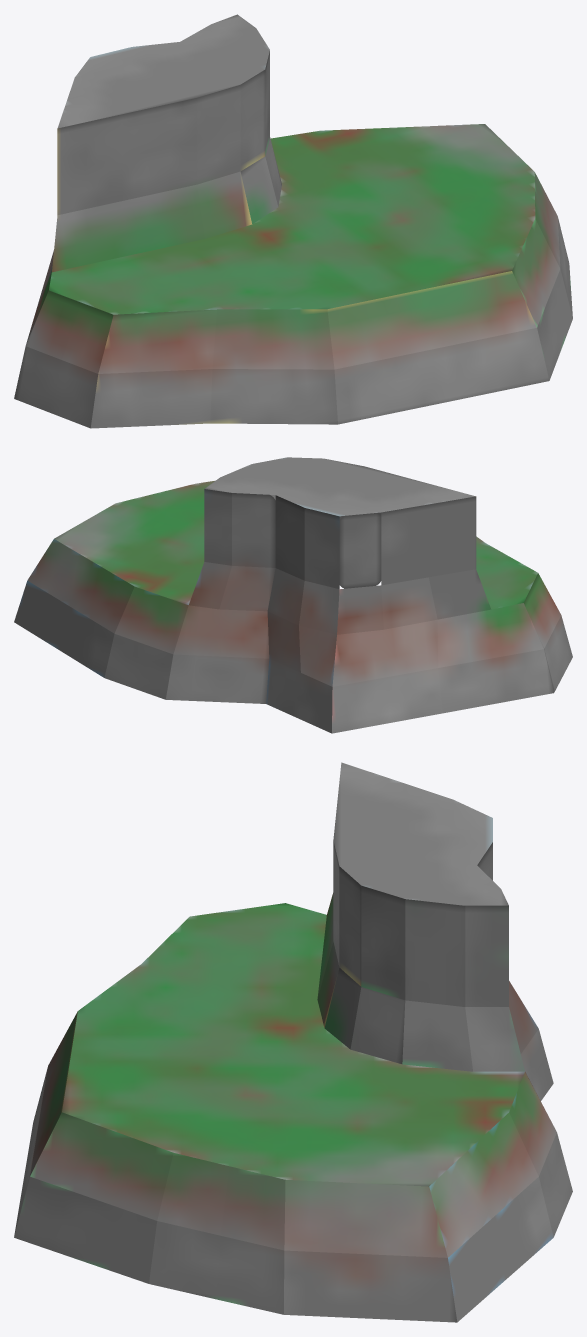
File: ilha.fbx
3 renders of one model, top to bottom at view 1: azimuth 30°, elevation 25°; view 2: azimuth 150°, elevation 25°; view 3: azimuth 270°, elevation 25°, orthographic. The views are drawn at different scales.
Visible parts, largest first — view 1: plane; view 2: plane; view 3: plane.
Part boxes in pixels (x1=…): plane: x1=14, y1=14, x2=572, y2=428; plane: x1=14, y1=457, x2=572, y2=733; plane: x1=14, y1=762, x2=572, y2=1322.
Bounding box in the file's own units: 75 × 29.69 × 54.69.
1 material, 1 textured.
